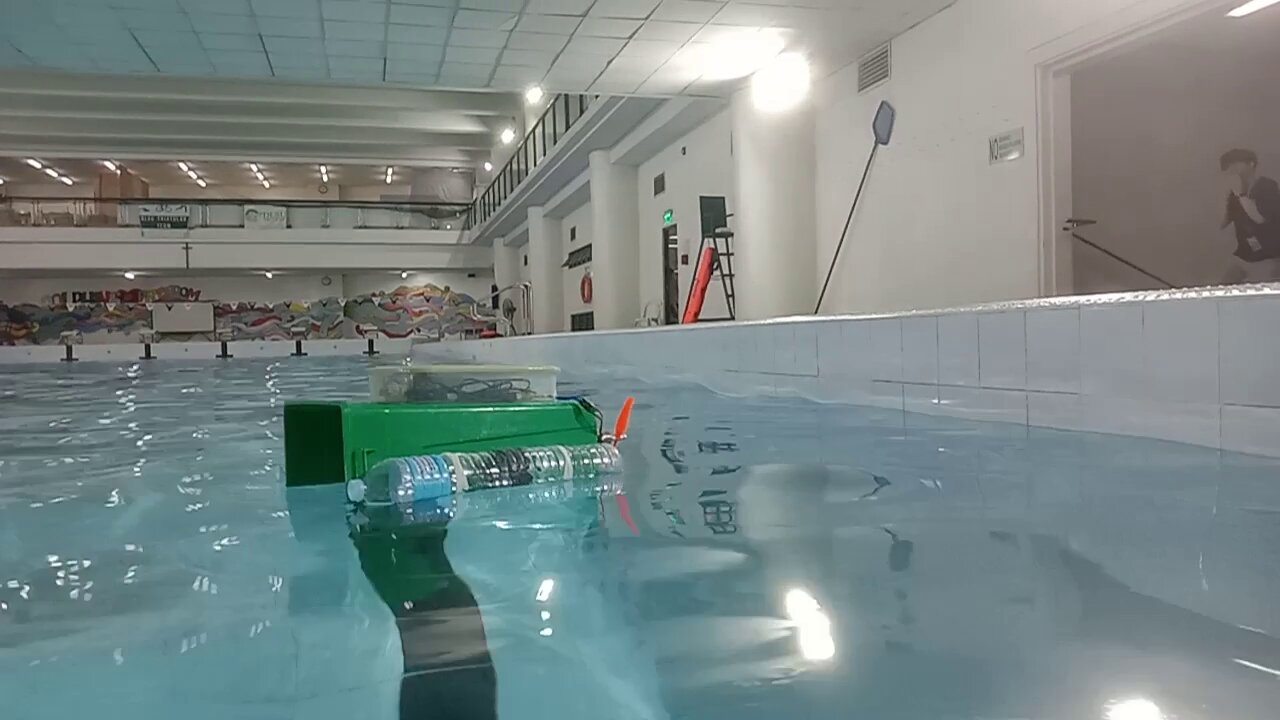drone: (284, 365, 634, 508)
